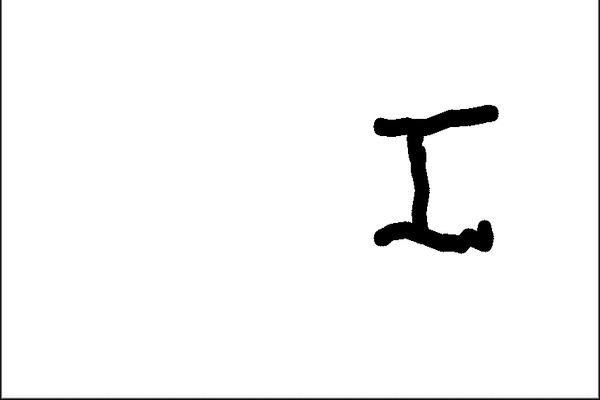i: (358, 94, 515, 261)
